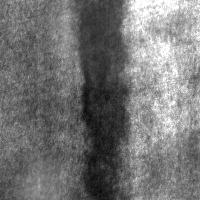patches: (43, 0, 193, 92), (76, 1, 132, 199), (136, 138, 200, 200), (10, 153, 72, 200)
